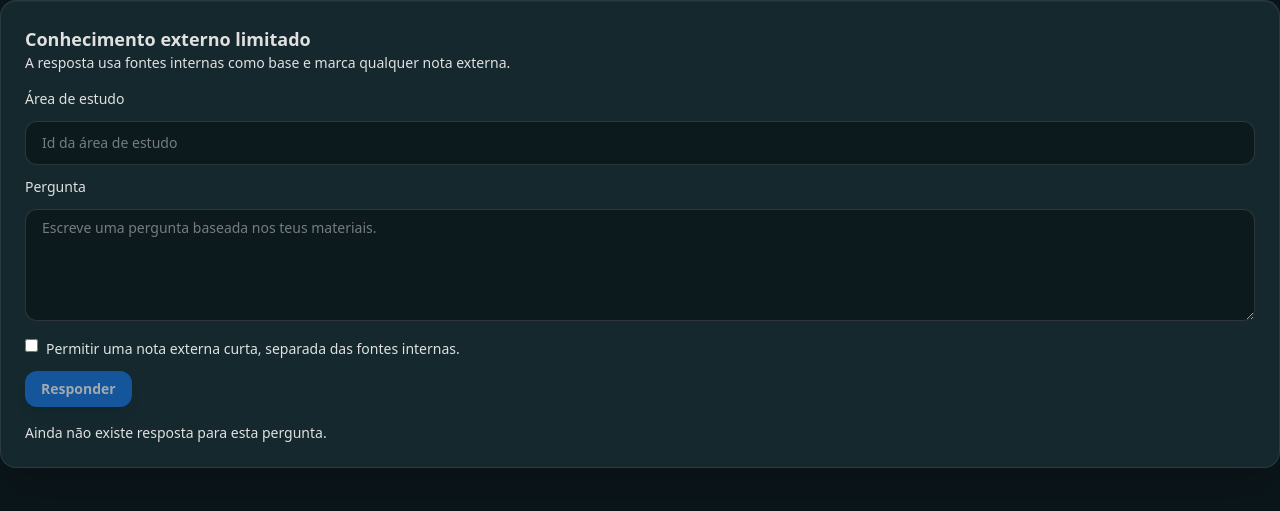
Test case: ações assíncronas dos painéis IA › mantém a mensagem técnica controlada no painel de conhecimento externo
Type " area-1 " into the field labelled "Área de estudo" at (640, 143), box [25,121,1255,165]
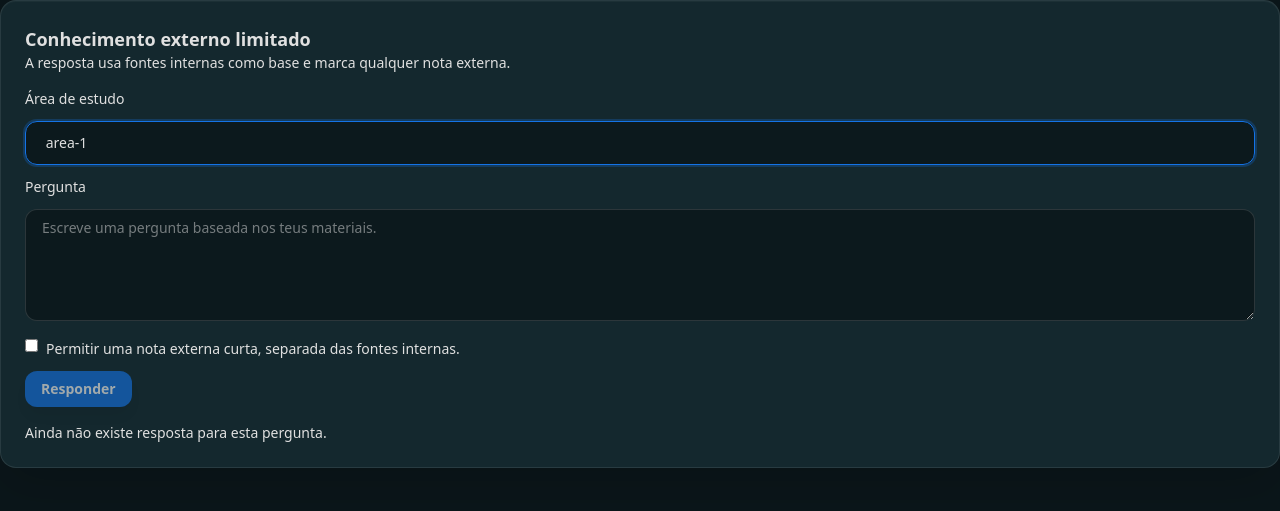
Type " Questão externa " into the text box labelled "Pergunta" at (640, 265), box [25,209,1255,321]
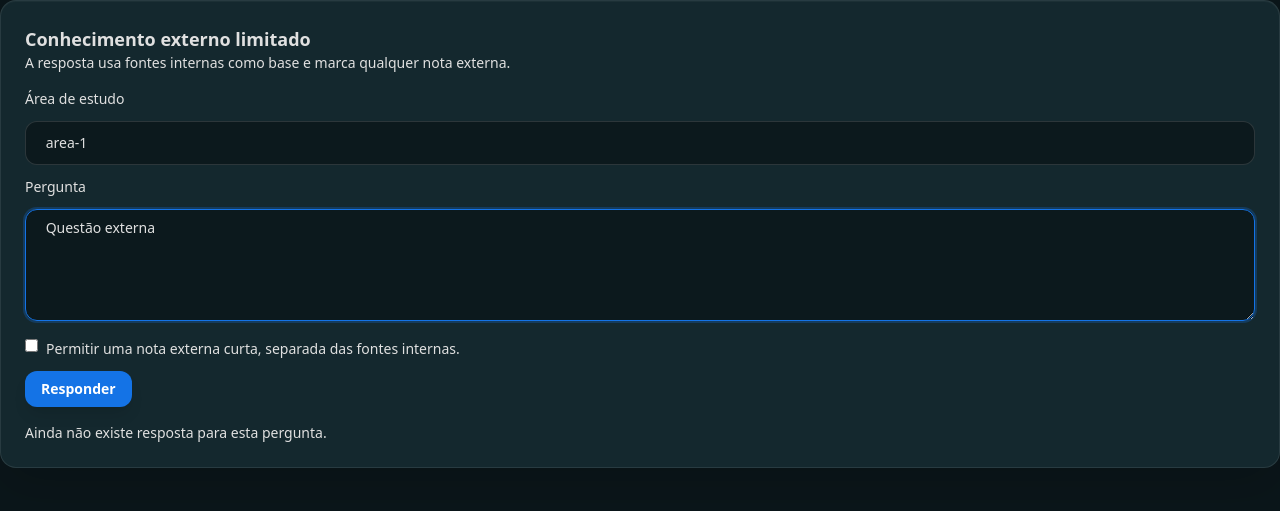
Click the button "Responder" at (78, 389), box [25,371,132,407]
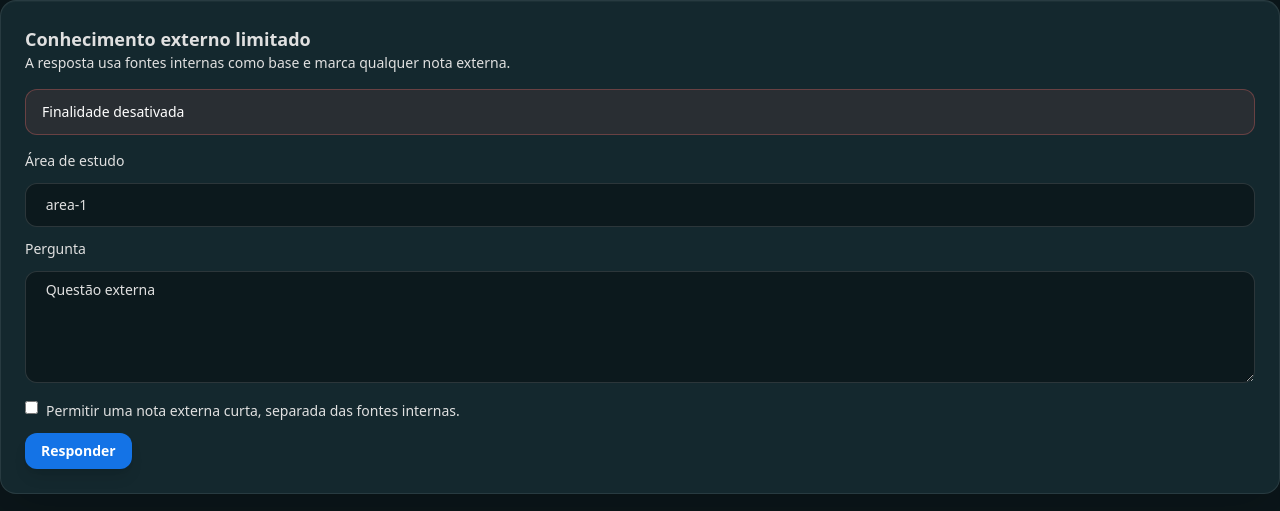
Now the message reads "Finalidade desativada", box [42,102,184,121]
